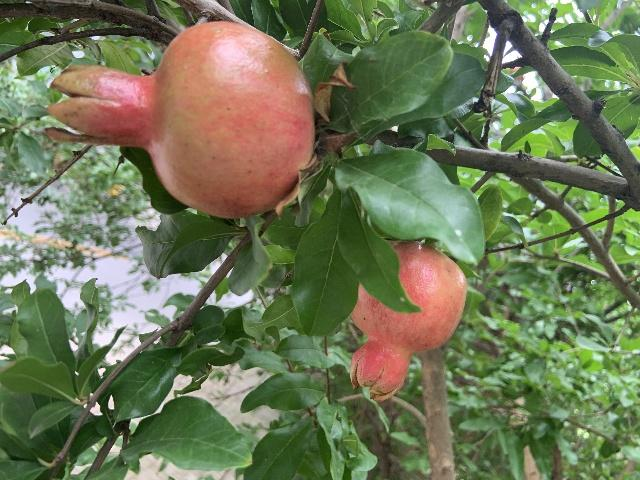ripe: (44, 21, 314, 218), (349, 242, 466, 400)
